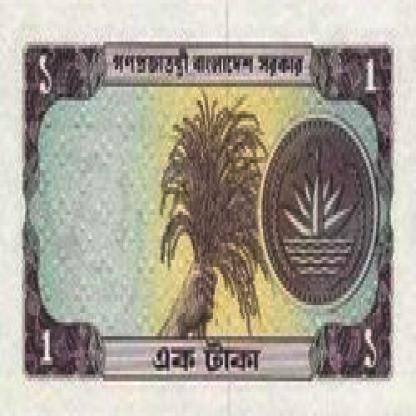One Taka: (148, 336, 265, 378), (28, 49, 65, 104), (356, 326, 384, 378), (35, 319, 58, 371), (360, 52, 384, 101)
